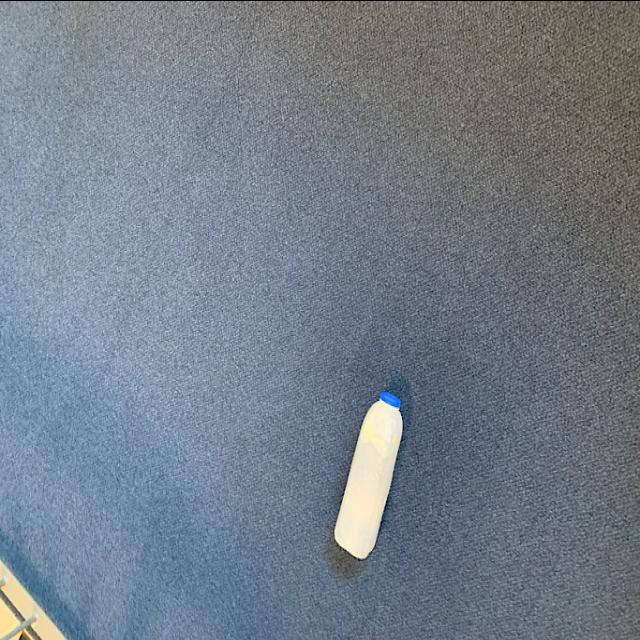litter: (330, 388, 406, 558)
